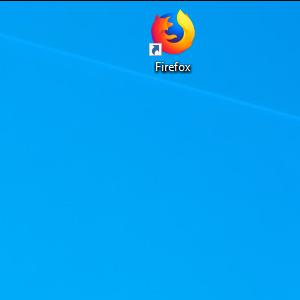firefox: (149, 9, 196, 56)
